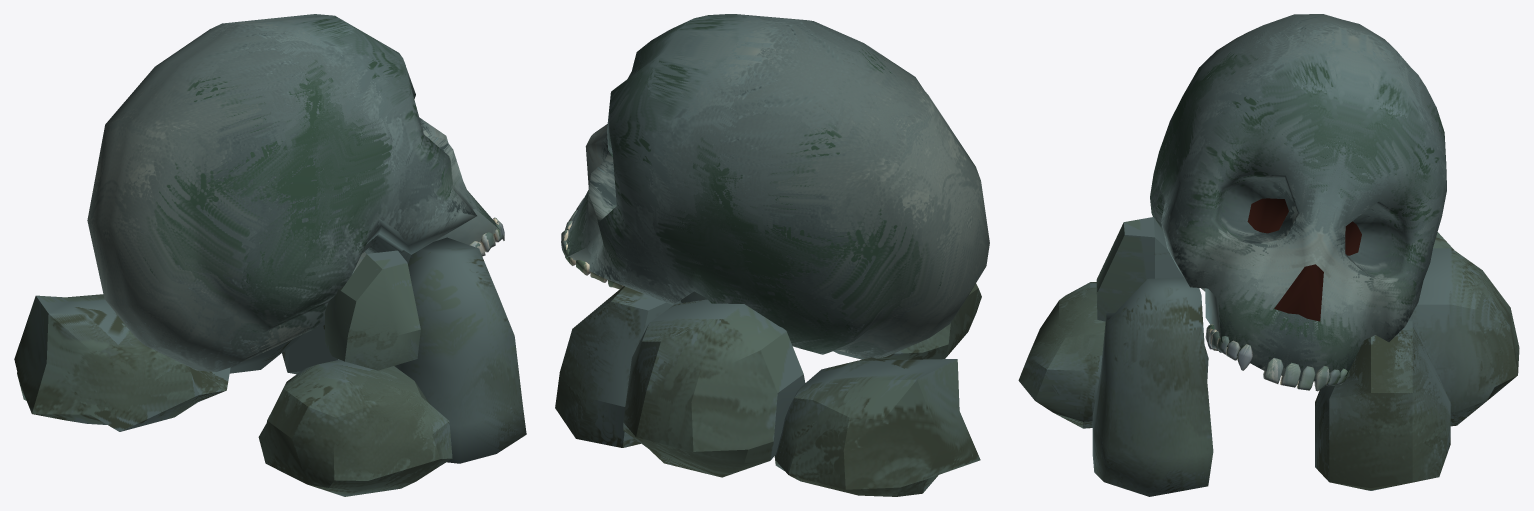
File: skull_cave_ver2.fbx
3 renders of one model, left to right at view 1: azimuth 30°, elevation 25°; view 2: azimuth 150°, elevation 25°; view 3: azimuth 270°, elevation 25°, orthographic. The views are drawn at different scales.
Visible parts, largest first — view 1: Cube, Cube.003; view 2: Cube, Cube.003, Cube.002; view 3: Cube, Cube.003, Cube.001, Cube.002.
Part boxes in pixels (bbox=[...]): Cube: bbox=[87, 14, 500, 371]; Cube.003: bbox=[14, 237, 526, 496]; Cube: bbox=[566, 14, 989, 358]; Cube.003: bbox=[555, 283, 981, 496]; Cube.002: bbox=[561, 198, 623, 289]; Cube: bbox=[1150, 14, 1446, 381]; Cube.003: bbox=[1018, 217, 1519, 496]; Cube.001: bbox=[1247, 198, 1361, 321]; Cube.002: bbox=[1205, 324, 1349, 391].
Size of the model in its own units: 1186 by 1076 by 1201.
4 materials, 3 textured.
